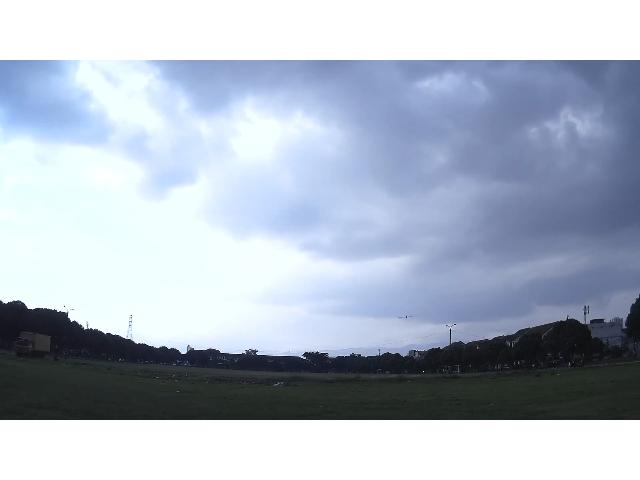Anti-Drone: (398, 316, 414, 318)
